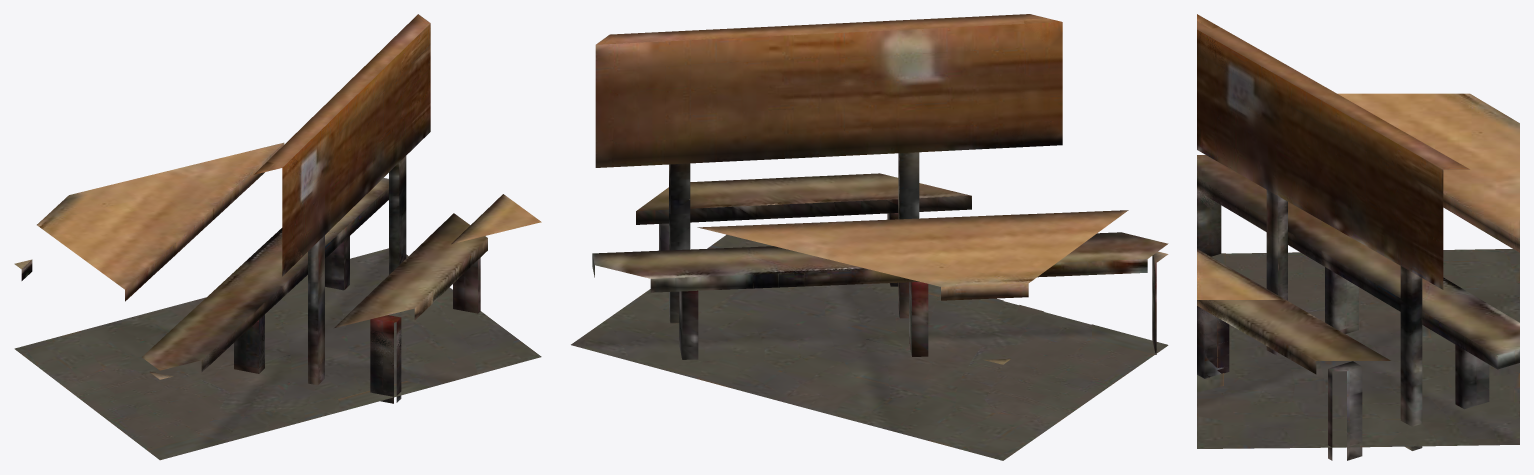
3 renders of one model, left to right at view 1: azimuth 30°, elevation 25°; view 2: azimuth 150°, elevation 25°; view 3: azimuth 270°, elevation 25°, orthographic. The views are drawn at different scales.
Bounding box in the file's own units: 2.36 × 1.61 × 1.56.
1 material, 1 textured.
